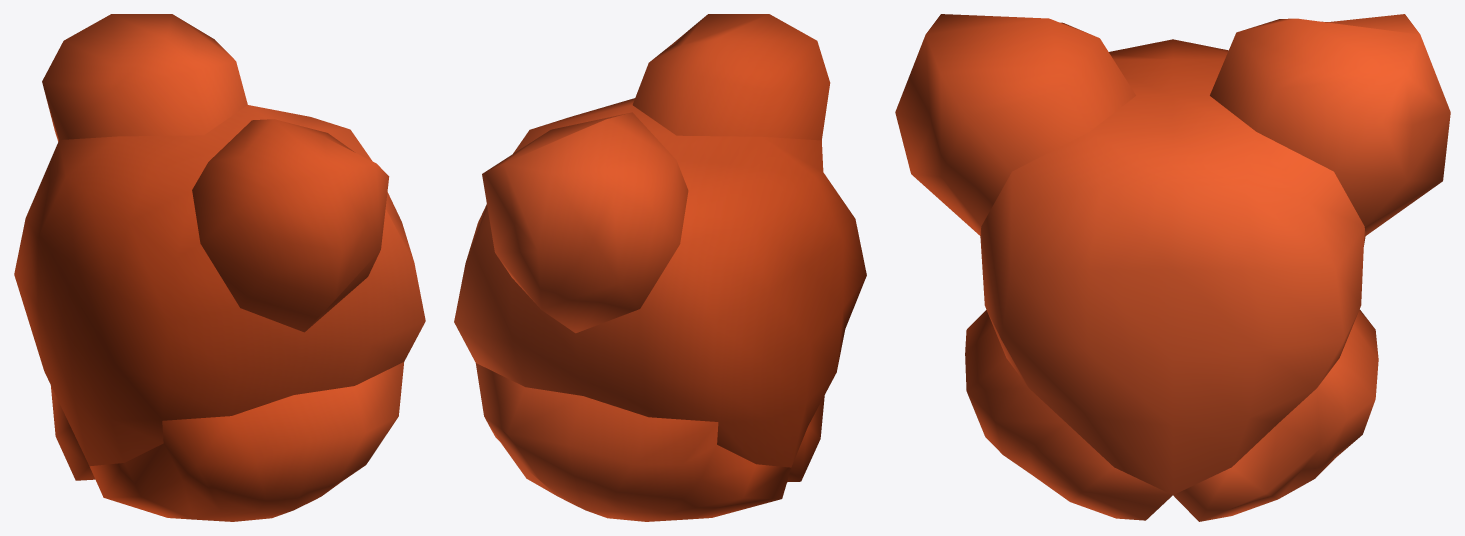
The model's file is Baryte.fbx.
3 views of the same model, side by side, from view 1: azimuth 30°, elevation 25°; view 2: azimuth 150°, elevation 25°; view 3: azimuth 270°, elevation 25° (orthographic). The views are drawn at different scales.
Visible parts, largest first — view 1: BARYTE.001; view 2: BARYTE.001; view 3: BARYTE.001.
Boxes of the visible parts, bbox=[...] form: BARYTE.001: bbox=[14, 14, 425, 521]; BARYTE.001: bbox=[454, 14, 866, 521]; BARYTE.001: bbox=[895, 14, 1450, 521].
Bounding box in the file's own units: 153 × 199 × 215.
Materials: 1 (1 with a texture image).
